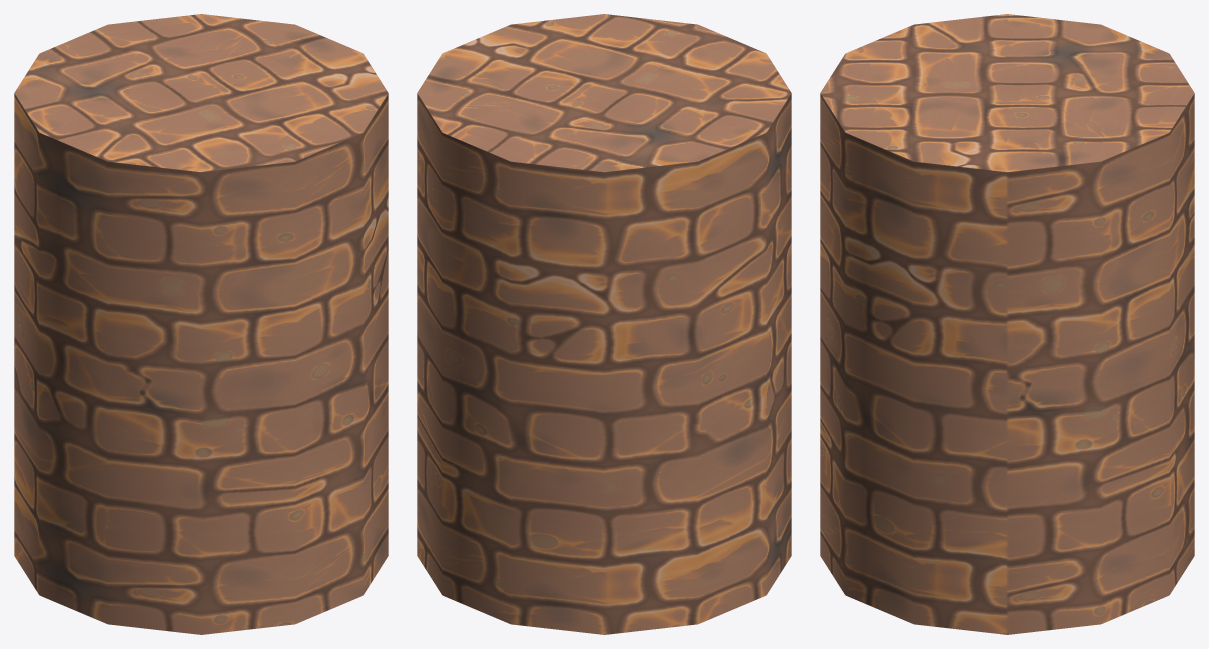
File: PIL0110004.FBX
The picture shows the model from 3 angles, left to right: view 1: azimuth 30°, elevation 25°; view 2: azimuth 150°, elevation 25°; view 3: azimuth 270°, elevation 25°; orthographic projection.
Parts seen in each view (by area): view 1: smPIL0110004; view 2: smPIL0110004; view 3: smPIL0110004.
Part boxes in pixels (<box>): smPIL0110004: <box>14,14,388,634</box>; smPIL0110004: <box>417,14,791,634</box>; smPIL0110004: <box>820,14,1194,634</box>.
Bounding box in the file's own units: 0.6275 × 0.8557 × 0.6275.
Materials: 1 (1 with a texture image).
